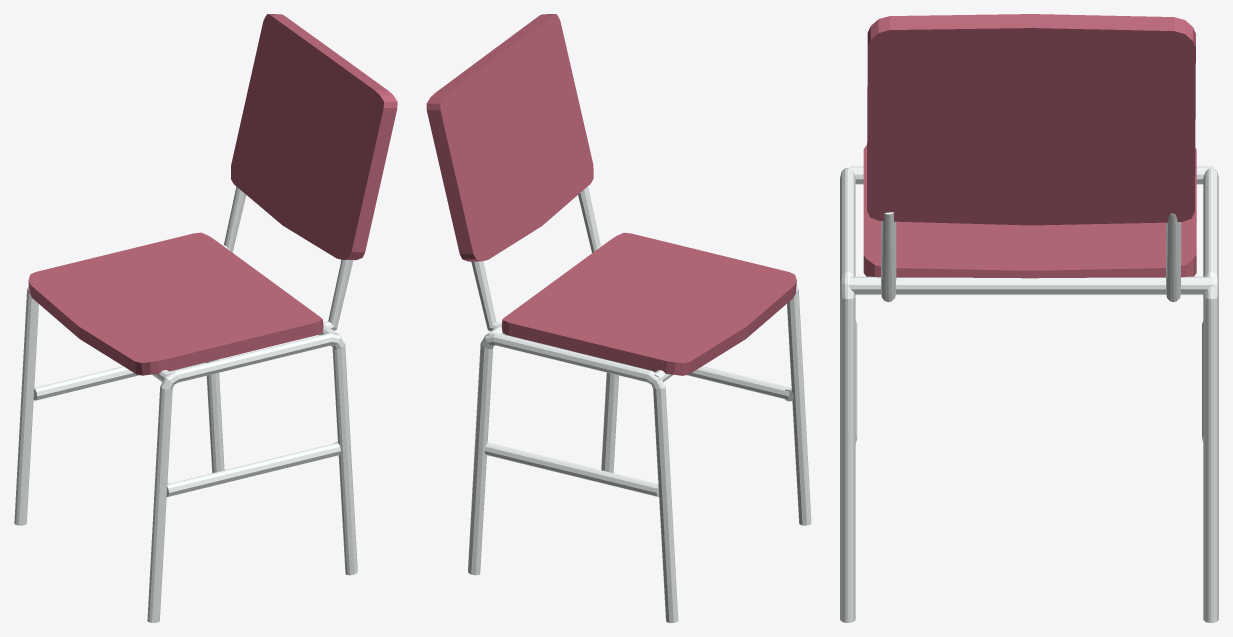
File: cadeira_prof.fbx
3 views of the same model, side by side, from view 1: azimuth 30°, elevation 25°; view 2: azimuth 150°, elevation 25°; view 3: azimuth 270°, elevation 25° (orthographic). The views are drawn at different scales.
Visible parts, largest first — view 1: Carteira_sala.003; view 2: Carteira_sala.003; view 3: Carteira_sala.003.
Part boxes in pixels (<box>): Carteira_sala.003: <box>14,14,397,622</box>; Carteira_sala.003: <box>426,14,811,622</box>; Carteira_sala.003: <box>840,14,1218,622</box>.
Size of the model in its own units: 70.4 by 119 by 64.82.
